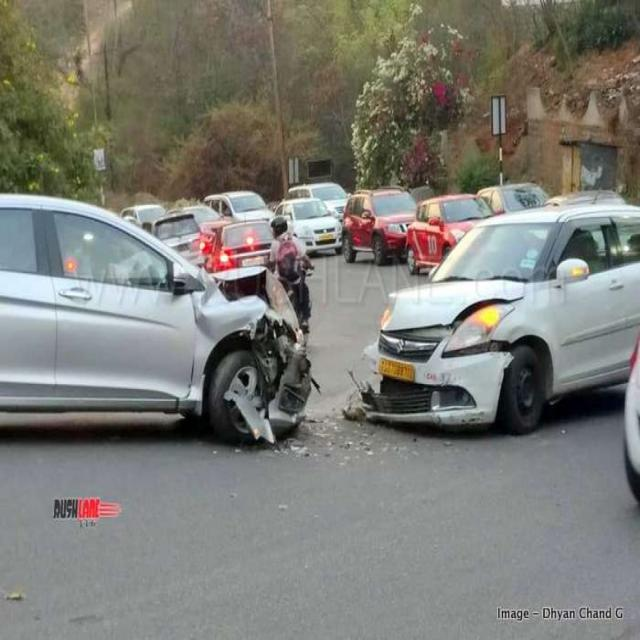accident: (0, 196, 311, 443), (362, 205, 640, 432)
car: (406, 193, 492, 273), (342, 188, 416, 265), (276, 200, 340, 253)
